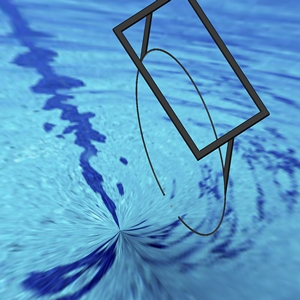circle: (108, 0, 270, 236)
